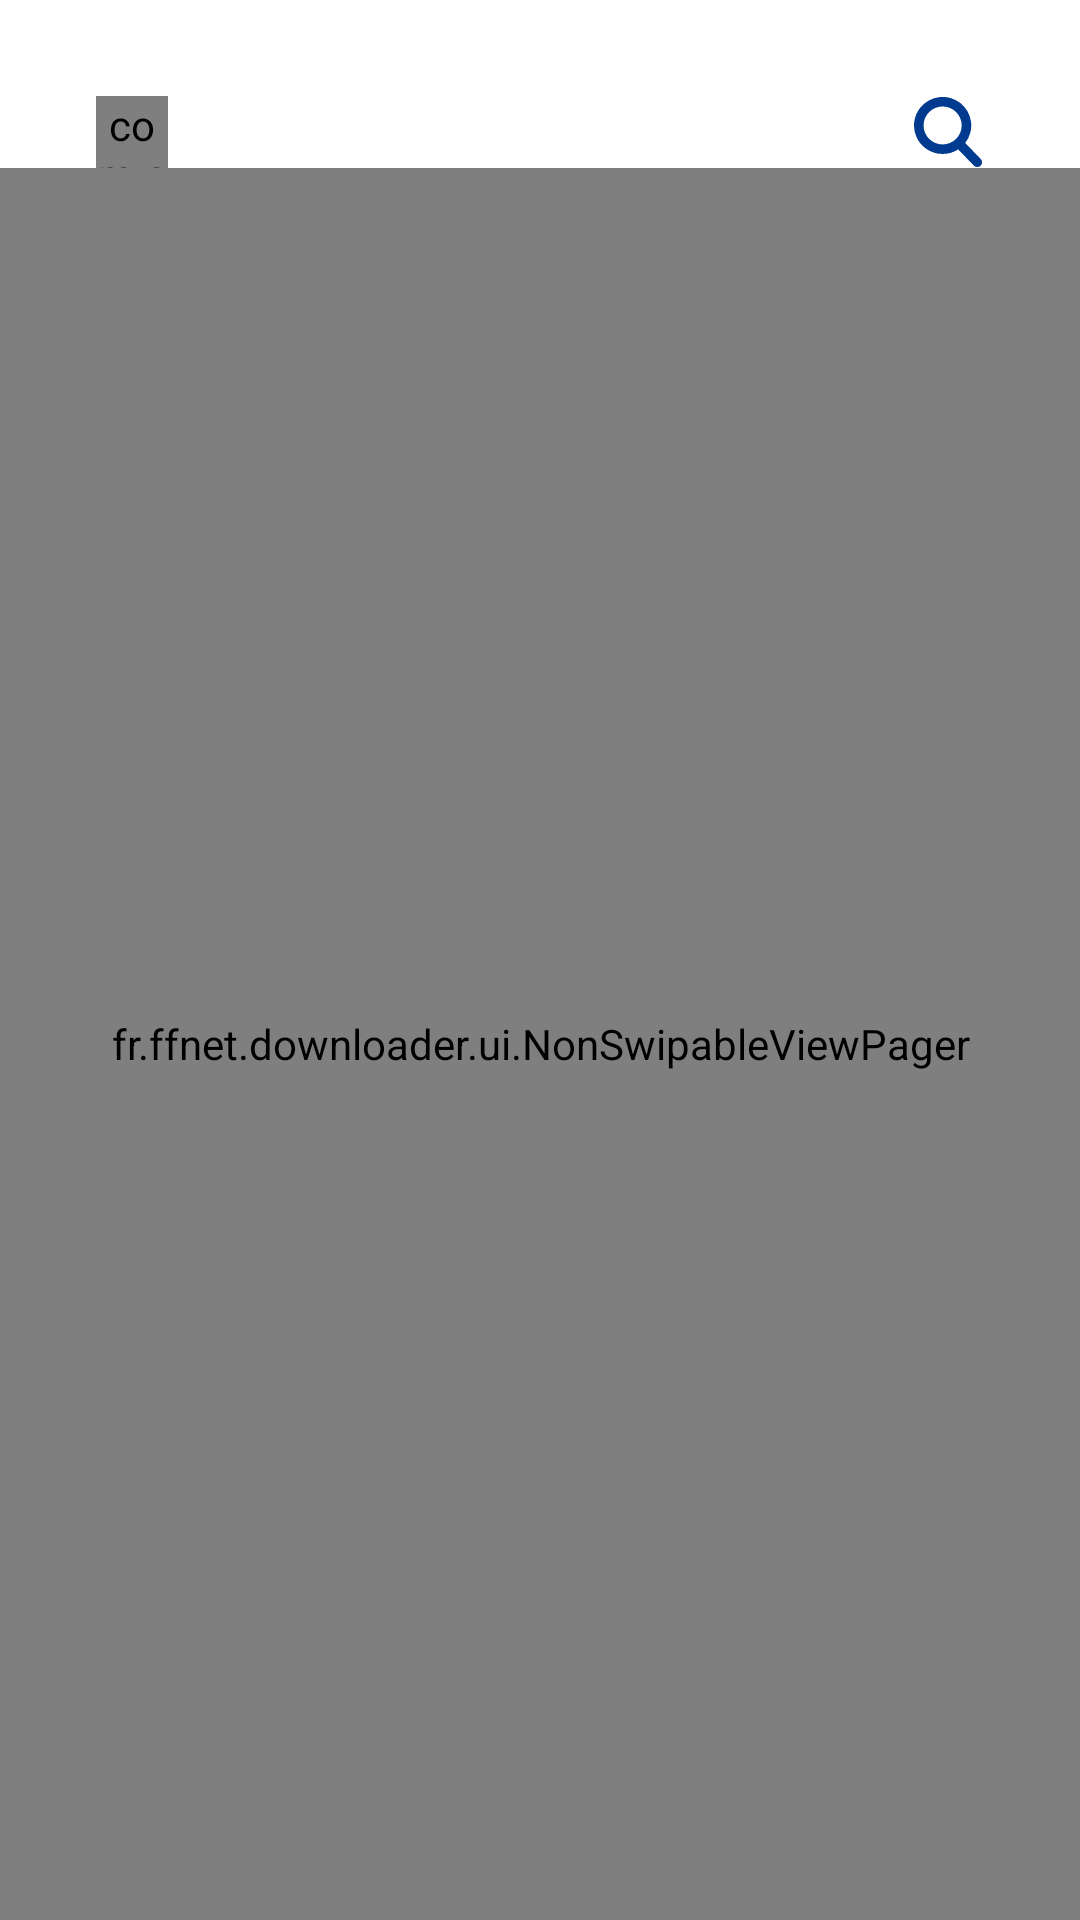

Icon click points for this 1080×1920 phone screenshot, format point (x, y):
search: point (948, 132)
